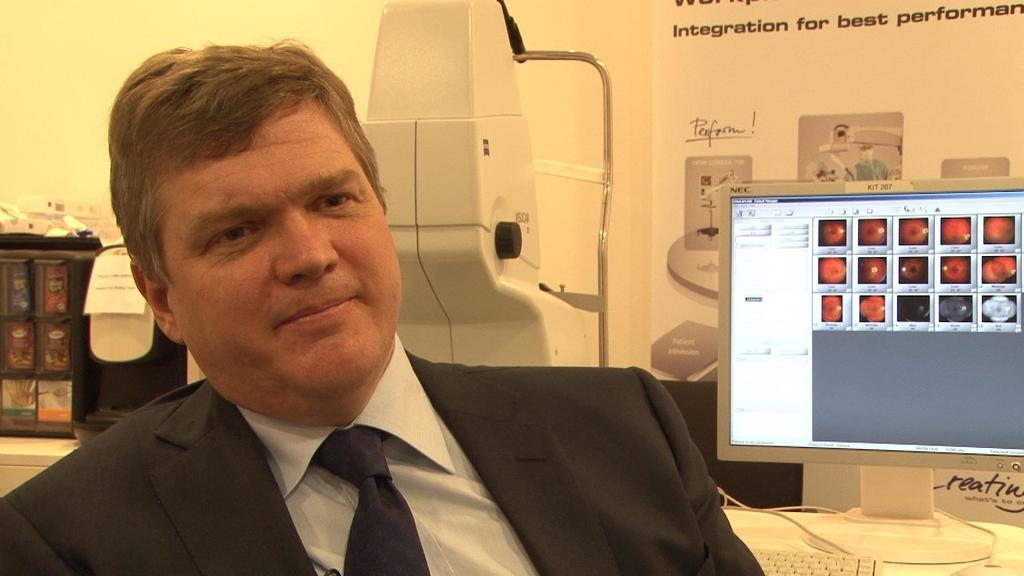Computer-monitor: (713, 174, 1021, 535)
